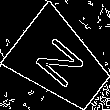N_SE: (30, 31, 91, 94)
